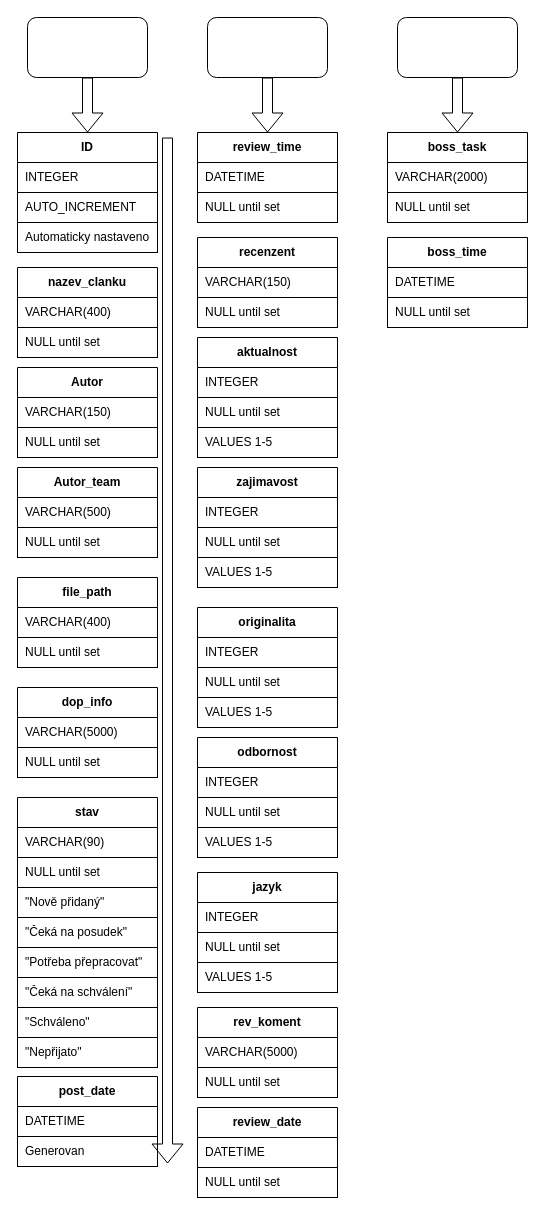
This 545x1215 diagram has some shape labels left out. Each missing label, with the centre of its shape:
"Při vytvoření nového příspěvku" goes at point 87,47.
"Při zpracování příspěvku" goes at point 267,47.
"Šéfredaktor" goes at point 457,47.
